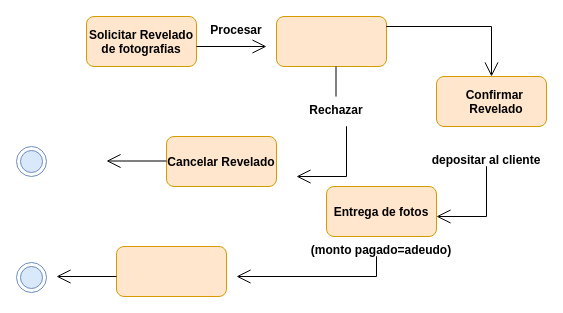
Some shapes in this 563 by 313 pixel diagram are drawn without their labels. Each missing label, with the box of its shape:
En Revision: (276, 16, 386, 66)
Pagado: (116, 246, 226, 296)
